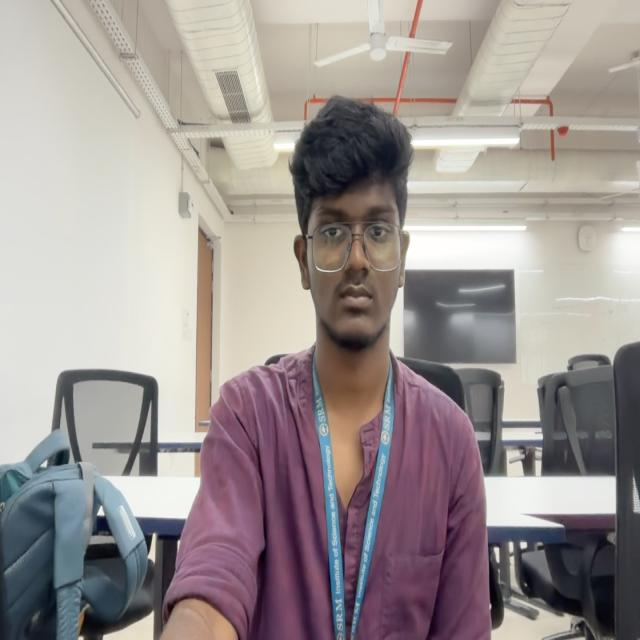ravindra: (288, 93, 410, 352)
